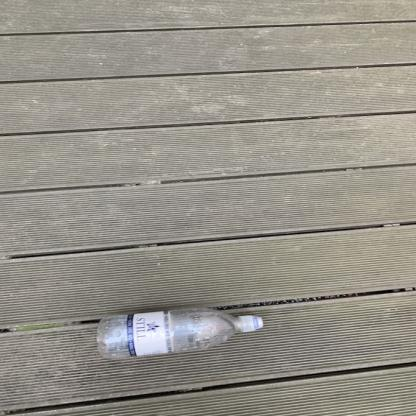trash: (99, 306, 264, 362)
